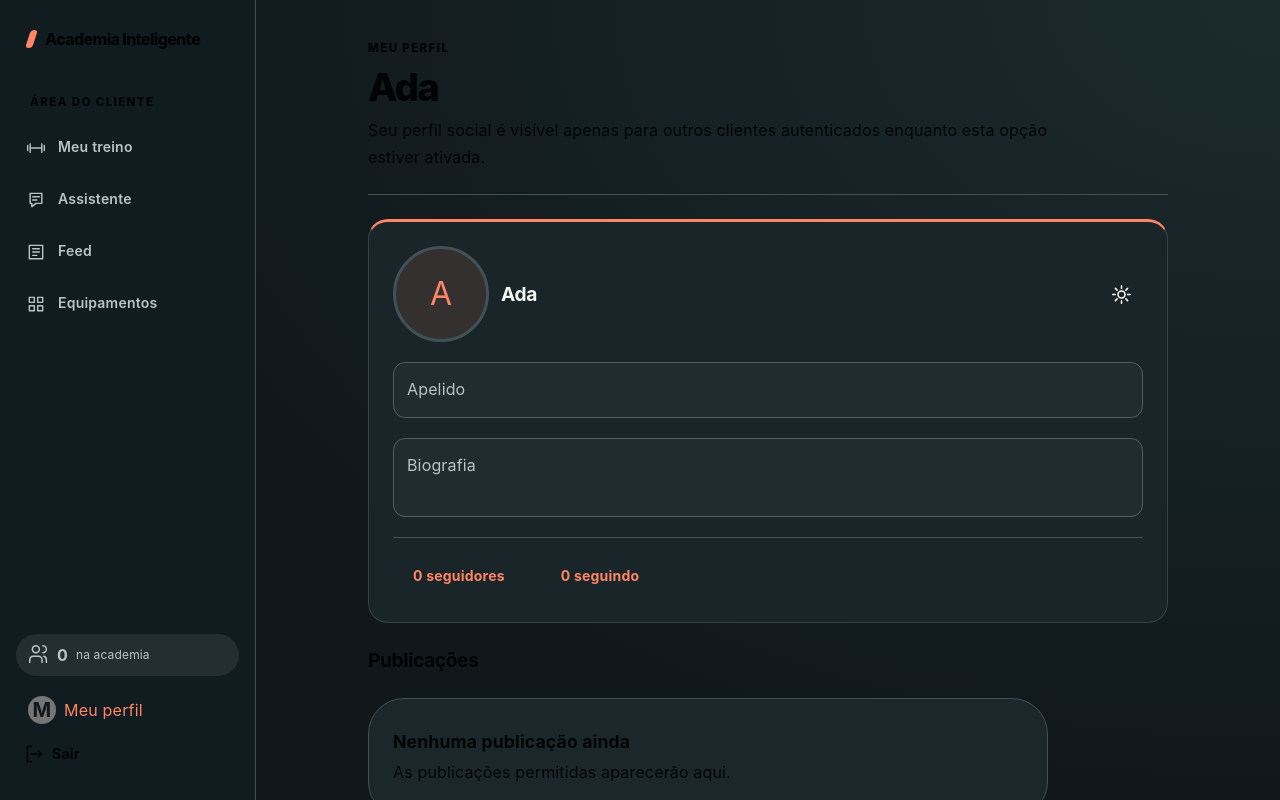
Scenario: password recovery is available only in the profile owner settings: true
Check: the 2nd heading "Ada" is shown, box [501,282,537,306]
Click the button named "Configurações do perfil": {"x": 1121, "y": 294} [1099,272,1143,316]
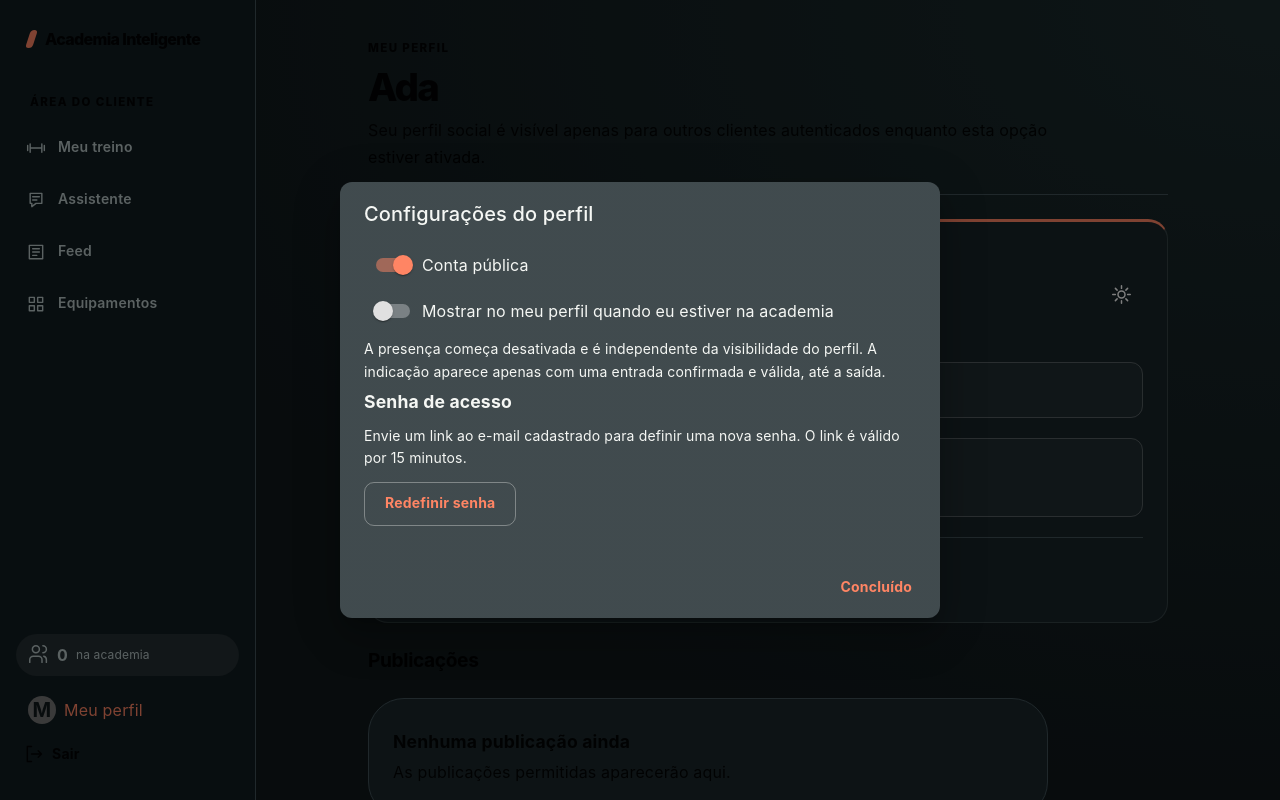
Click the button "Redefinir senha": {"x": 440, "y": 504} [364,482,516,526]
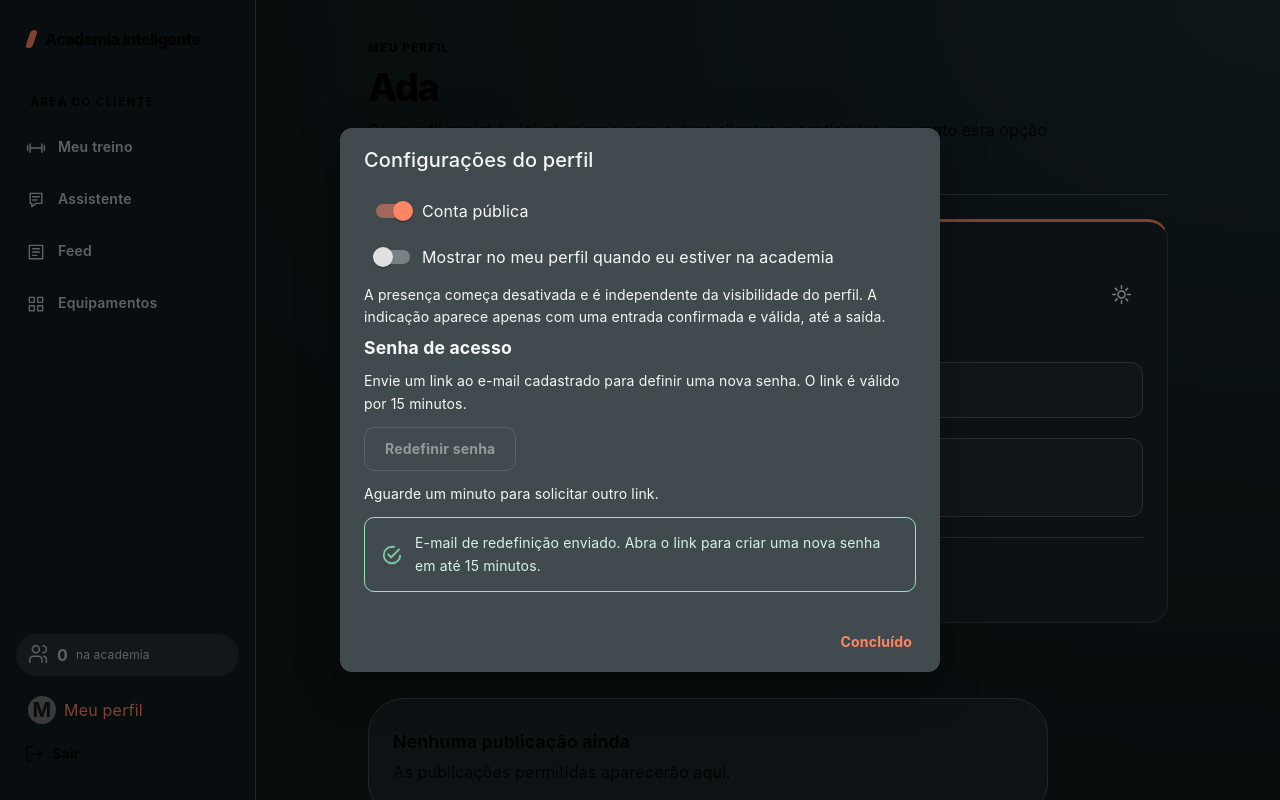
Check: the text "E-mail de redefinição enviado" is shown, box [415,534,880,574]
